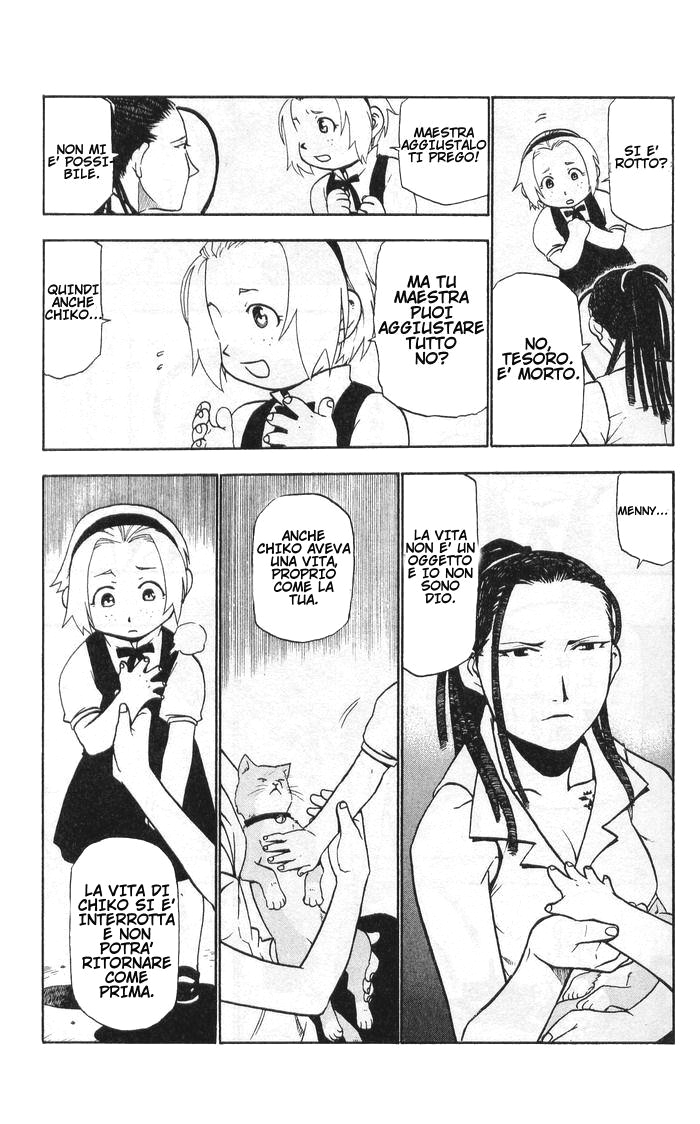Baloon: (69, 838, 181, 1031), (376, 239, 488, 420), (490, 274, 591, 444), (403, 470, 478, 682), (253, 496, 357, 643), (393, 94, 495, 207), (607, 96, 681, 229), (43, 239, 109, 381), (45, 98, 112, 215), (617, 475, 674, 567)
Vignetta: (398, 470, 671, 1046), (219, 472, 397, 1043), (41, 472, 219, 1043), (43, 238, 490, 444), (488, 96, 672, 446), (41, 93, 491, 213)
